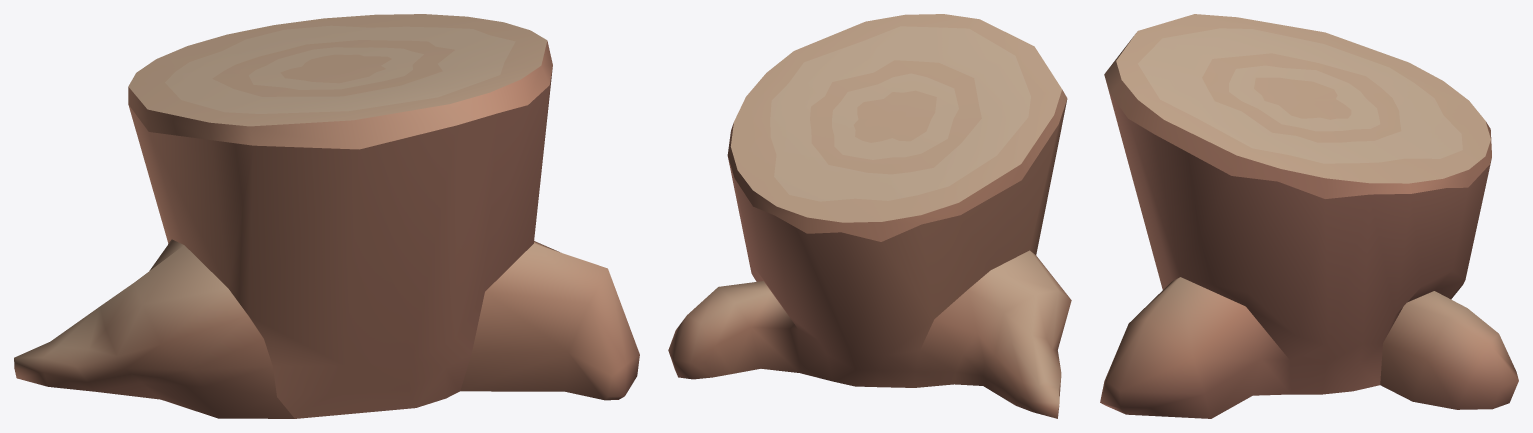
The model's file is obstacle-stump_small_H1.glb.
3 renders of one model, left to right at view 1: azimuth 30°, elevation 25°; view 2: azimuth 150°, elevation 25°; view 3: azimuth 270°, elevation 25°, orthographic. The views are drawn at different scales.
Parts seen in each view (by area): view 1: obstacle-stump_small_H1; view 2: obstacle-stump_small_H1; view 3: obstacle-stump_small_H1.
Boxes of the visible parts, bbox=[...] form: obstacle-stump_small_H1: bbox=[14, 14, 639, 418]; obstacle-stump_small_H1: bbox=[668, 14, 1071, 418]; obstacle-stump_small_H1: bbox=[1100, 14, 1518, 418].
Bounding box in the file's own units: 2.48 × 1.64 × 2.24.
